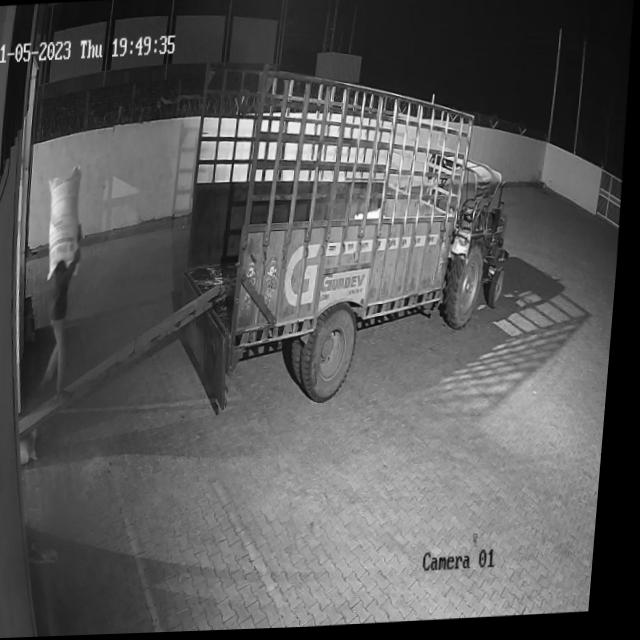sack: (46, 167, 87, 280)
